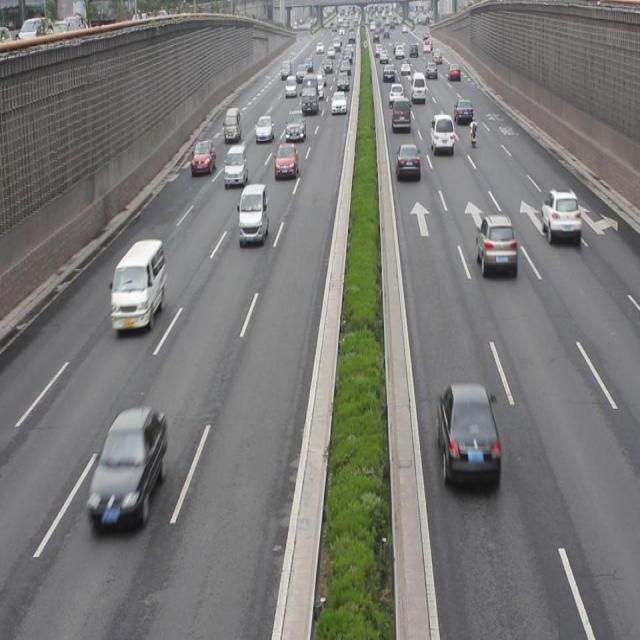car: (91, 407, 166, 523), (436, 379, 498, 486), (476, 215, 516, 276), (540, 186, 580, 245), (395, 142, 419, 177), (275, 142, 297, 180), (192, 139, 216, 173), (284, 110, 306, 142), (254, 114, 274, 144), (454, 98, 474, 124)
truck: (111, 239, 166, 331), (237, 182, 269, 245), (430, 110, 456, 155), (224, 143, 247, 184), (390, 96, 410, 134), (223, 106, 243, 144)
